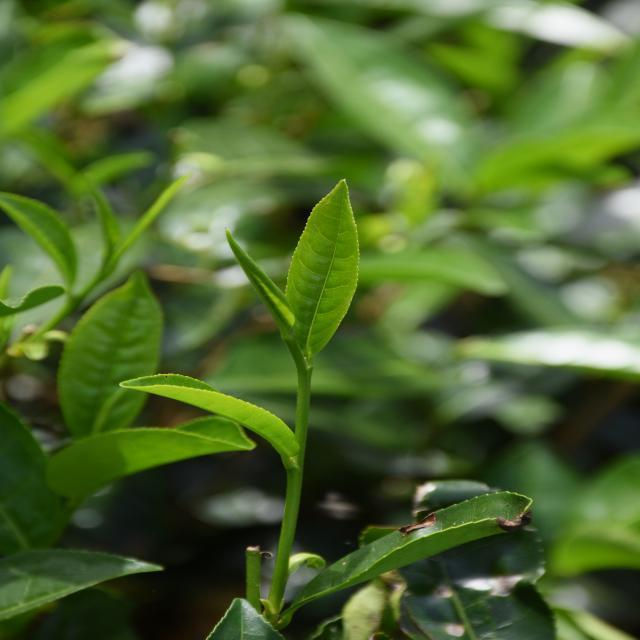Stem: (297, 369, 311, 386)
